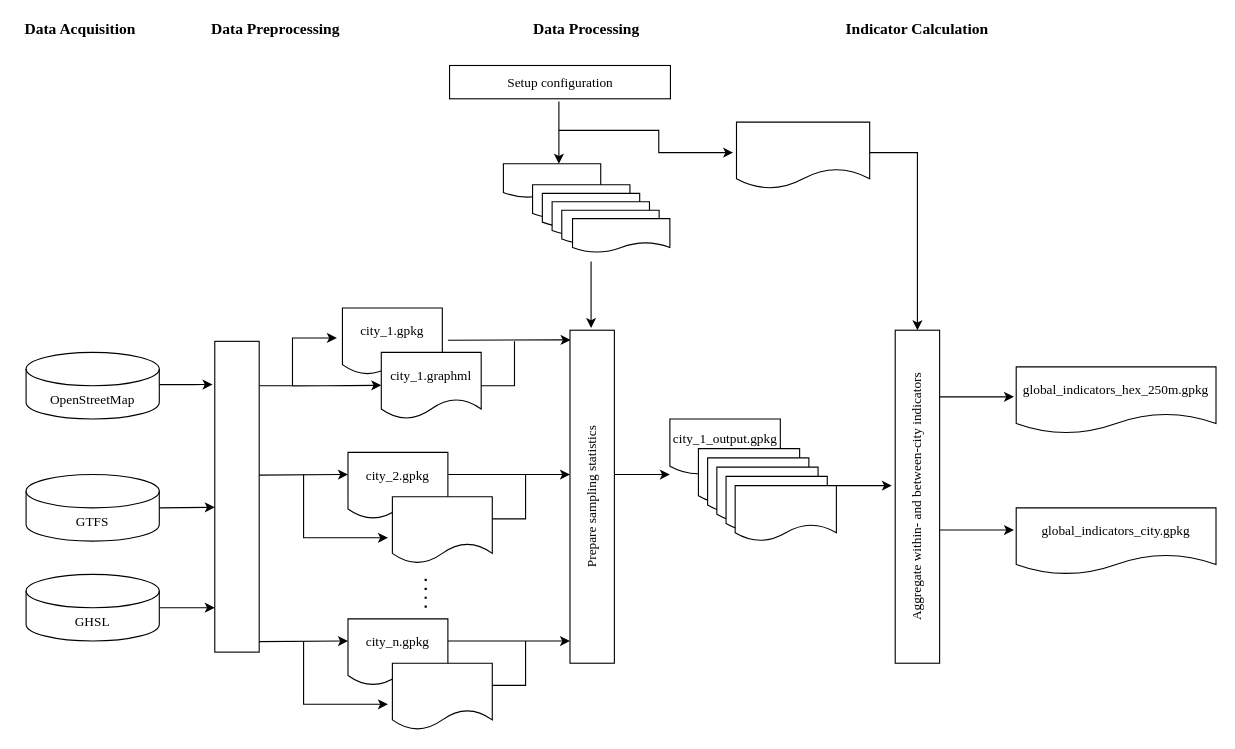
Image size: 1235x749. Some labels were removed from this diagram. The box of each missing label's shape, as (x1, y1, x2, y2) in pixels:
cities.py: (735, 121, 870, 189)
city_1.py: (502, 163, 601, 198)
city_3.graphml: (391, 496, 492, 563)
city_n.graphml: (391, 662, 492, 730)
city_n.py: (571, 218, 670, 253)
city_n_output.gpkg: (734, 485, 836, 541)
Pre-process input data: (214, 340, 259, 652)
